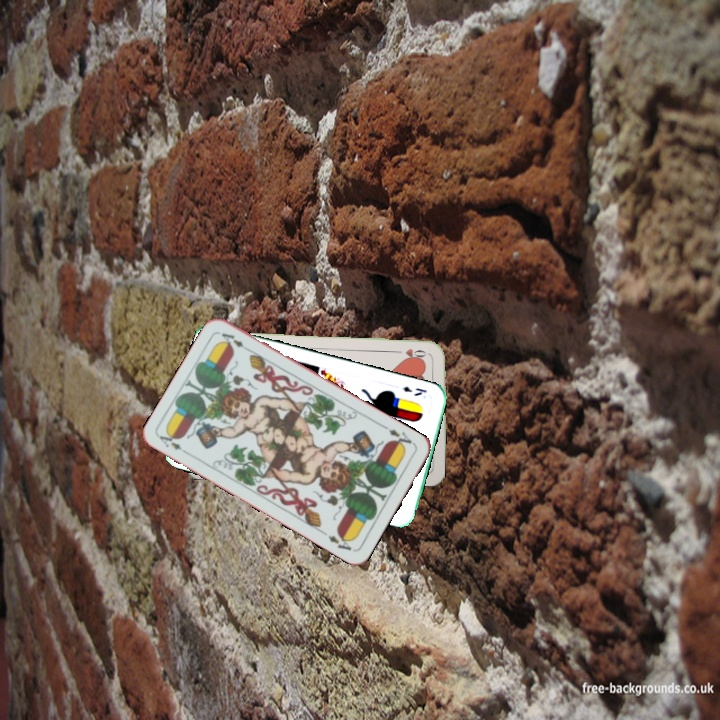EA: (155, 428, 192, 458), (380, 422, 417, 451)
EK: (399, 382, 429, 399)
HO: (392, 344, 432, 360)
